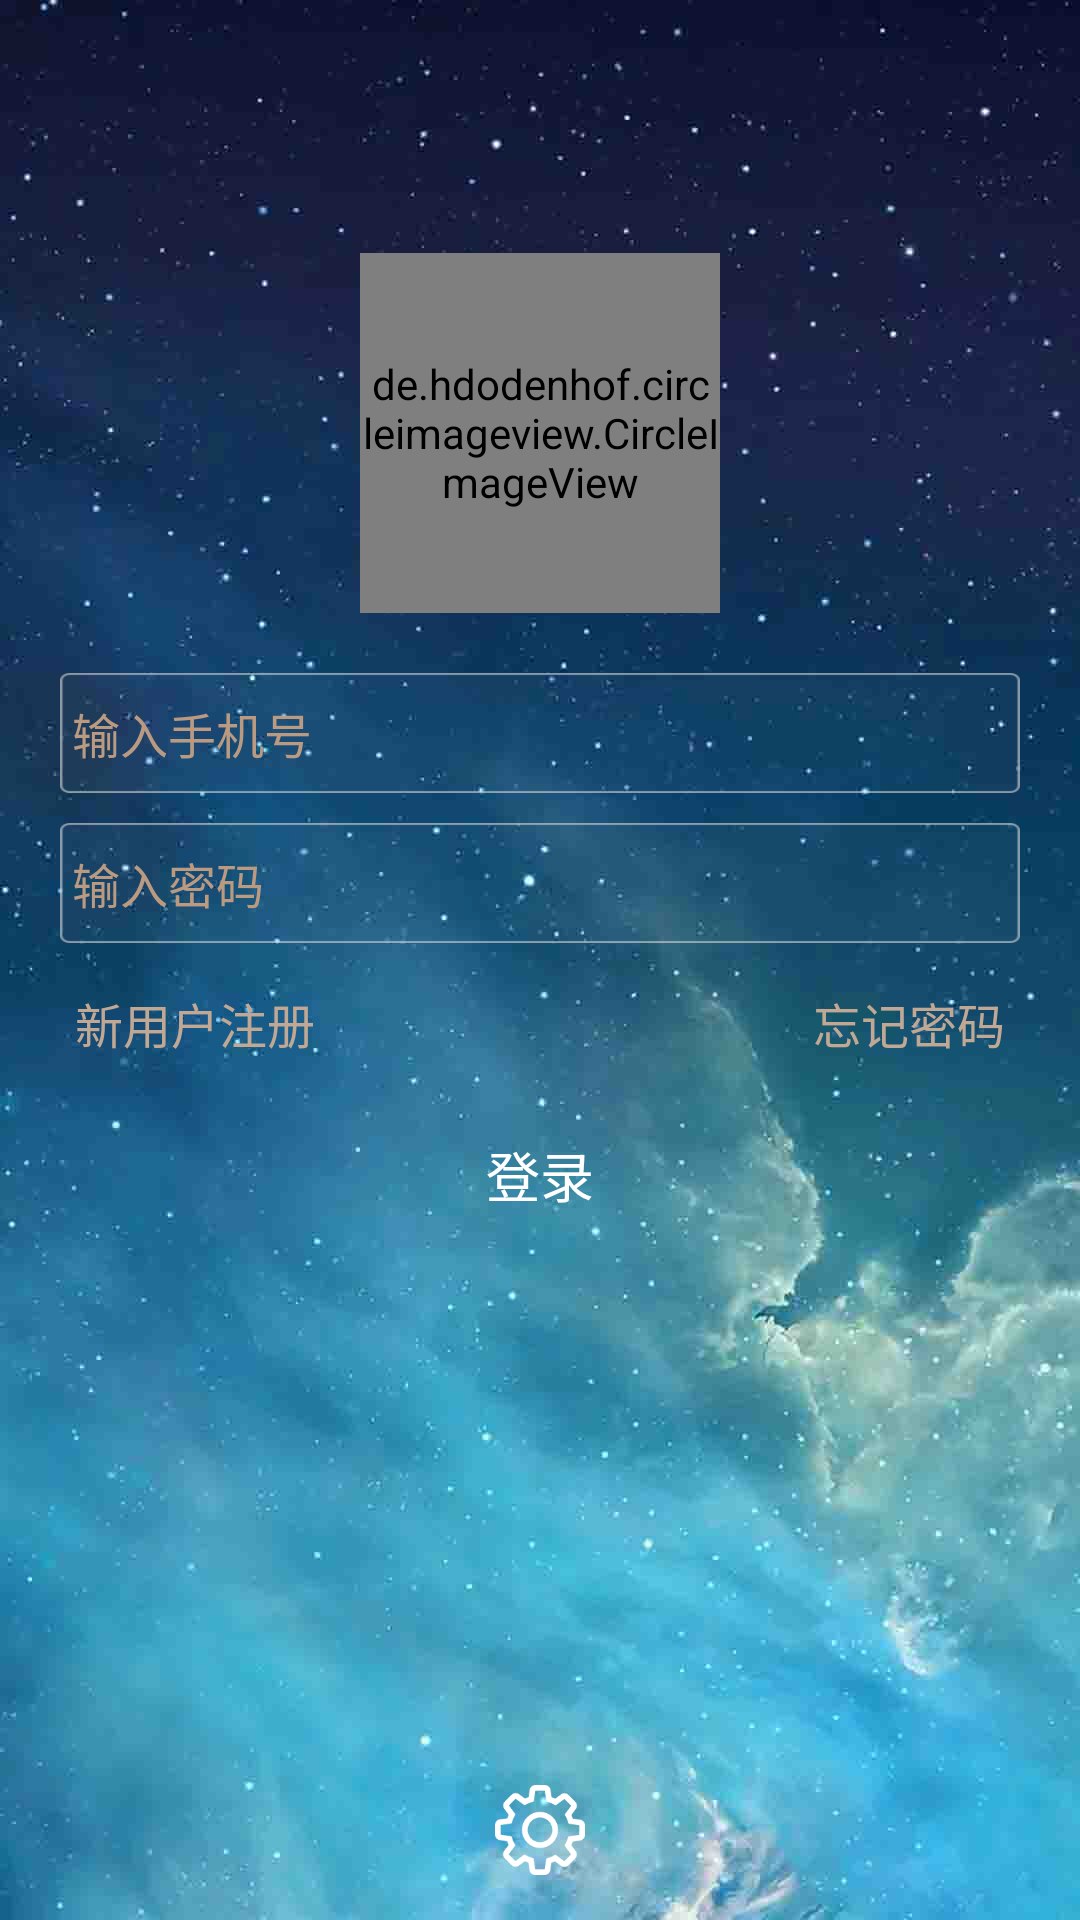

Where to tap for icons on this 1080 × 1920 app screen, as point (x, y):
setting: point (540, 1830)
